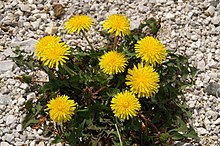dandelion: (109, 90, 143, 122), (36, 34, 68, 66), (134, 38, 170, 66), (130, 67, 161, 99), (104, 9, 130, 41), (49, 97, 80, 121), (99, 52, 128, 76), (64, 15, 96, 34)
